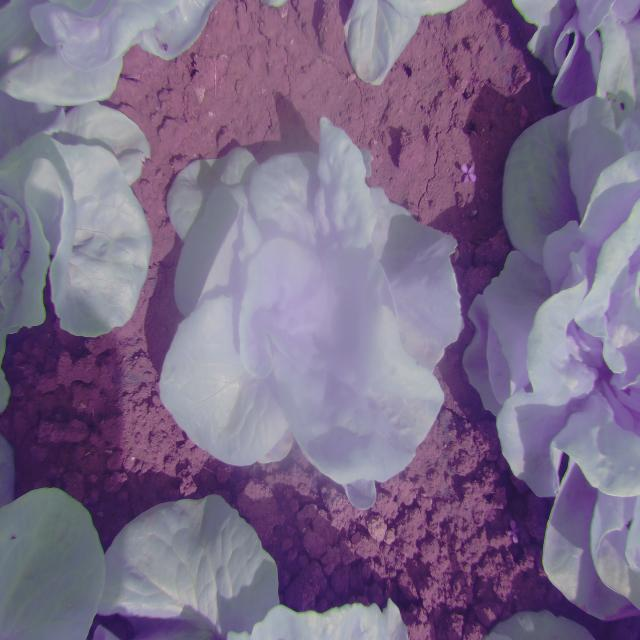vege: (155, 119, 465, 488)
